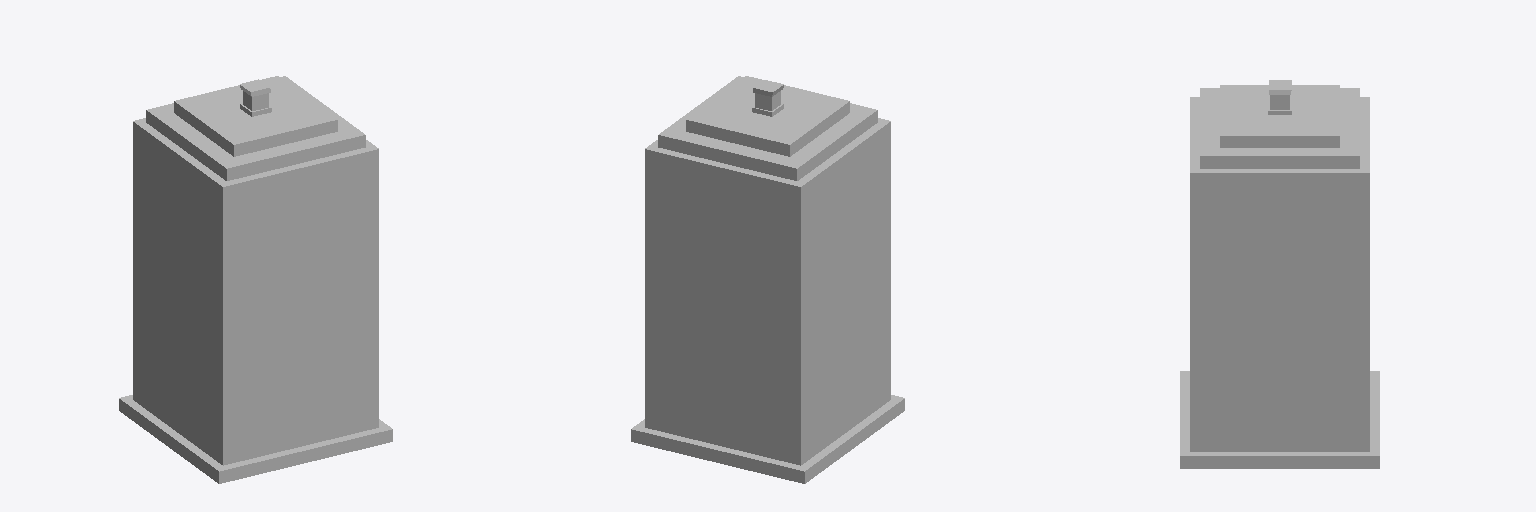
Rendered from tardis.obj.
3 views of the same model, side by side, from view 1: azimuth 30°, elevation 25°; view 2: azimuth 150°, elevation 25°; view 3: azimuth 270°, elevation 25° (orthographic).
Parts seen in each view (by area): view 1: Cube; view 2: Cube; view 3: Cube.
Boxes of the visible parts, <box> form: Cube: <box>119,76,392,483</box>; Cube: <box>631,76,904,483</box>; Cube: <box>1180,80,1379,468</box>.
Bounding box in the file's own units: 2.55 × 4.77 × 2.55.